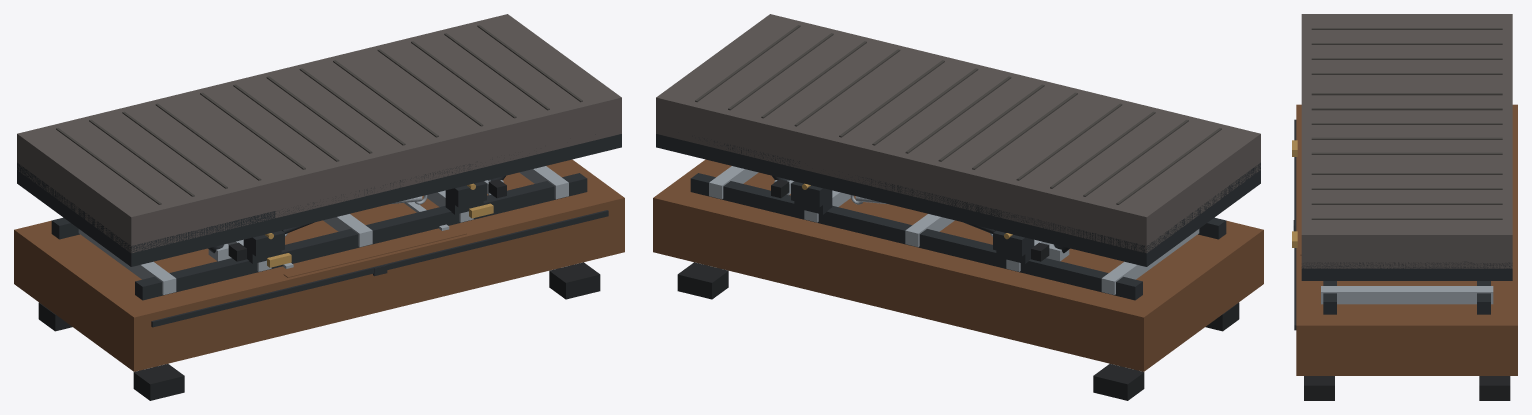
File: tarang_mechanism.glb
3 views of the same model, side by side, from view 1: azimuth 30°, elevation 25°; view 2: azimuth 150°, elevation 25°; view 3: azimuth 270°, elevation 25° (orthographic). The views are drawn at different scales.
Visible parts, largest first — view 1: Continuous walnut plinth | 1700 x 720, CENTRE FOAM CUSHION, LEFT FOAM WEDGE | quilted, RIGHT FOAM WEDGE | quilted, Longitudinal steel chassis rail, LEFT FOLDING PANEL | steel carrier, Front recessed shadow reveal, CENTRE SEAT PANEL | fixed datum, RIGHT FOLDING PANEL | steel carrier, Non-slip foot.002, Non-slip foot, Crossmember (+5 smaller); view 2: Continuous walnut plinth | 1700 x 720, CENTRE FOAM CUSHION, LEFT FOAM WEDGE | quilted, RIGHT FOAM WEDGE | quilted, Longitudinal steel chassis rail.001, LEFT FOLDING PANEL | steel carrier, CENTRE SEAT PANEL | fixed datum, RIGHT FOLDING PANEL | steel carrier, Non-slip foot.003, Non-slip foot.001, Crossmember, Crossmember.002 (+3 smaller); view 3: Continuous walnut plinth | 1700 x 720, RIGHT FOAM WEDGE | quilted, CENTRE FOAM CUSHION, LEFT FOAM WEDGE | quilted, RIGHT FOLDING PANEL | steel carrier, Crossmember.004, Non-slip foot.003, Non-slip foot.002, Quilt channel piping | centre, Quilt channel piping | centre.001, Quilt channel piping | centre.003, Quilt channel piping | centre.004 (+12 smaller).
Part boxes in pixels (box(x1,y1,x2,y2)): Continuous walnut plinth | 1700 x 720: box(14, 159, 624, 371); CENTRE FOAM CUSHION: box(161, 49, 477, 217); LEFT FOAM WEDGE | quilted: box(17, 98, 275, 252); RIGHT FOAM WEDGE | quilted: box(364, 14, 621, 168); Longitudinal steel chassis rail: box(135, 173, 587, 300); LEFT FOLDING PANEL | steel carrier: box(17, 162, 275, 266); Front recessed shadow reveal: box(151, 210, 608, 327); CENTRE SEAT PANEL | fixed datum: box(275, 164, 477, 231); RIGHT FOLDING PANEL | steel carrier: box(477, 134, 621, 182); Non-slip foot.002: box(549, 262, 600, 299); Non-slip foot: box(133, 364, 184, 400); Crossmember: box(78, 229, 176, 294); Continuous walnut plinth | 1700 x 720: box(653, 159, 1263, 371); CENTRE FOAM CUSHION: box(800, 49, 1116, 217); LEFT FOAM WEDGE | quilted: box(1002, 98, 1260, 253); RIGHT FOAM WEDGE | quilted: box(656, 14, 913, 168); Longitudinal steel chassis rail.001: box(690, 173, 1142, 300); LEFT FOLDING PANEL | steel carrier: box(1002, 162, 1260, 266); CENTRE SEAT PANEL | fixed datum: box(800, 169, 1002, 231); RIGHT FOLDING PANEL | steel carrier: box(656, 134, 800, 182); Non-slip foot.003: box(677, 262, 728, 299); Non-slip foot.001: box(1093, 364, 1144, 400); Crossmember: box(1101, 229, 1199, 294); Crossmember.002: box(905, 214, 954, 247); Continuous walnut plinth | 1700 x 720: box(1296, 104, 1517, 375); RIGHT FOAM WEDGE | quilted: box(1301, 170, 1512, 268); CENTRE FOAM CUSHION: box(1301, 79, 1512, 169); LEFT FOAM WEDGE | quilted: box(1301, 14, 1512, 78); RIGHT FOLDING PANEL | steel carrier: box(1301, 261, 1512, 280); Crossmember.004: box(1321, 286, 1493, 304); Non-slip foot.003: box(1479, 376, 1510, 400); Non-slip foot.002: box(1304, 376, 1334, 400); Quilt channel piping | centre: box(1311, 93, 1502, 95); Quilt channel piping | centre.001: box(1311, 108, 1502, 110); Quilt channel piping | centre.003: box(1311, 137, 1502, 139); Quilt channel piping | centre.004: box(1311, 152, 1502, 154).
Size of what is drawn, in the model's own units: 1.7 by 0.6315 by 0.734.
